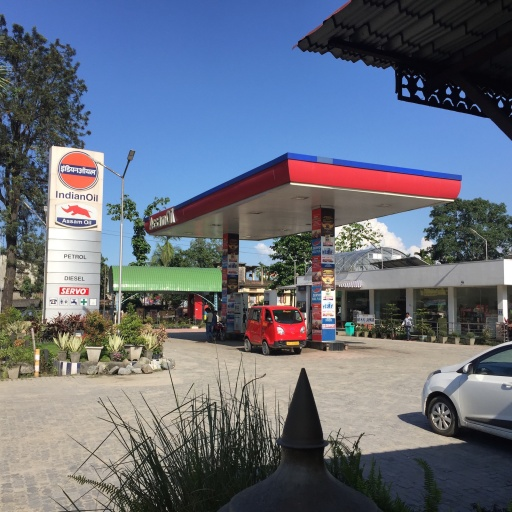roof: (146, 152, 463, 244)
